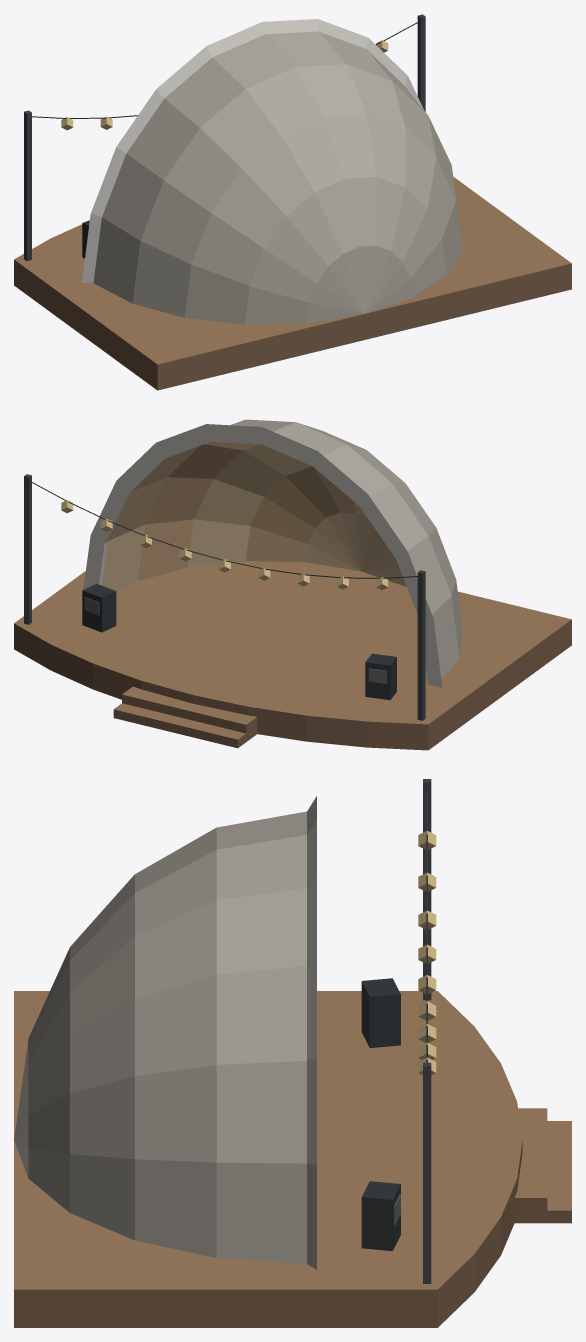
The model's file is performance-stage-Dm4_-AMt.glb.
3 views of the same model, one above another, from view 1: azimuth 30°, elevation 25°; view 2: azimuth 150°, elevation 25°; view 3: azimuth 270°, elevation 25° (orthographic). The views are drawn at different scales.
Parts seen in each view (by area): view 1: performance-stage; view 2: performance-stage; view 3: performance-stage.
Boxes of the visible parts, x1,y1,x2,y2 form: performance-stage: (14, 14, 571, 390); performance-stage: (14, 419, 571, 750); performance-stage: (14, 779, 571, 1327).
Bounding box in the file's own units: 10 × 5.6 × 7.9.
